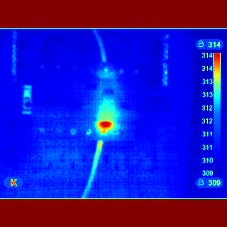Critical: (83, 110, 125, 139)
